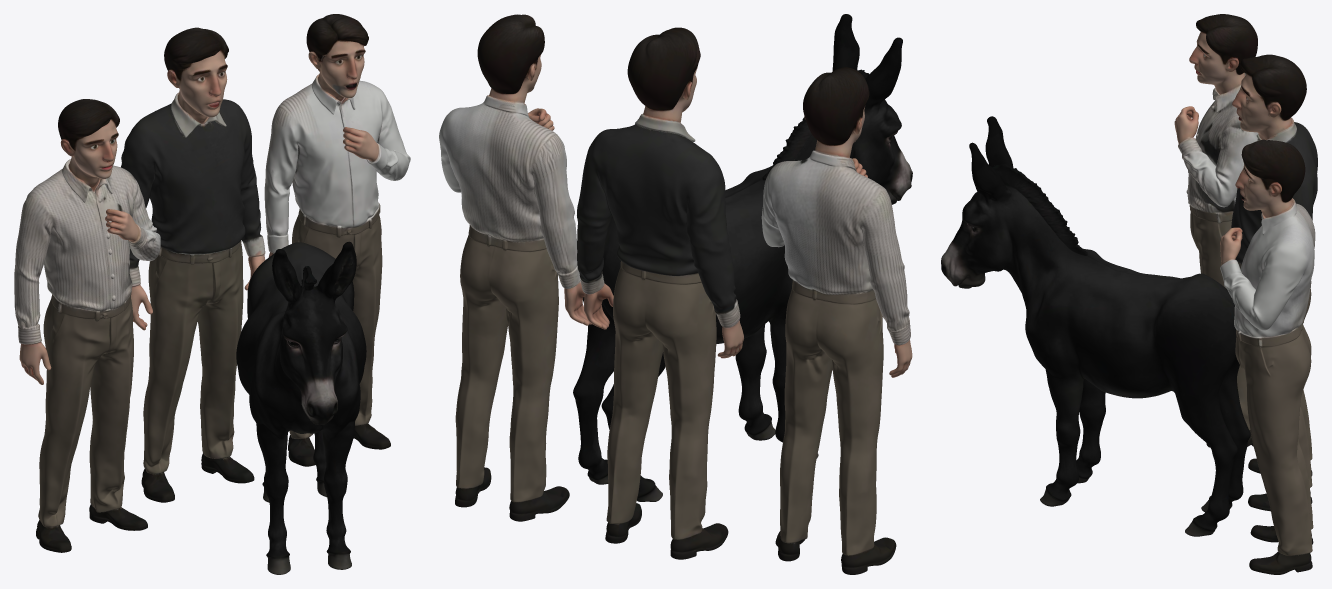
The model's file is 26-el-asno-negro-de-las-pilas-optimized.glb.
3 renders of one model, left to right at view 1: azimuth 30°, elevation 25°; view 2: azimuth 150°, elevation 25°; view 3: azimuth 270°, elevation 25°, orthographic. The views are drawn at different scales.
Visible parts, largest first — view 1: tripo_node_3d2776dc-2f47-4480-a264-510ef2b26cfb; view 2: tripo_node_3d2776dc-2f47-4480-a264-510ef2b26cfb; view 3: tripo_node_3d2776dc-2f47-4480-a264-510ef2b26cfb.
Boxes of the visible parts, <box> form: tripo_node_3d2776dc-2f47-4480-a264-510ef2b26cfb: <box>14,14,410,574</box>; tripo_node_3d2776dc-2f47-4480-a264-510ef2b26cfb: <box>439,14,912,574</box>; tripo_node_3d2776dc-2f47-4480-a264-510ef2b26cfb: <box>941,14,1317,574</box>.
Size of the model in its own units: 0.9284 by 1 by 0.7886.
1 material, 1 textured.
